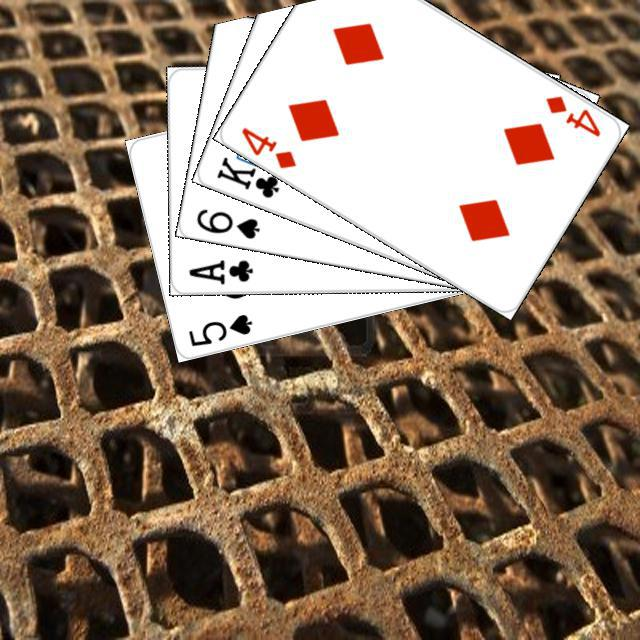4d: (236, 122, 298, 171), (540, 90, 602, 139)
5s: (183, 309, 254, 348)
6s: (191, 204, 261, 241)
Ac: (184, 255, 255, 286)
Kc: (211, 149, 293, 200)
